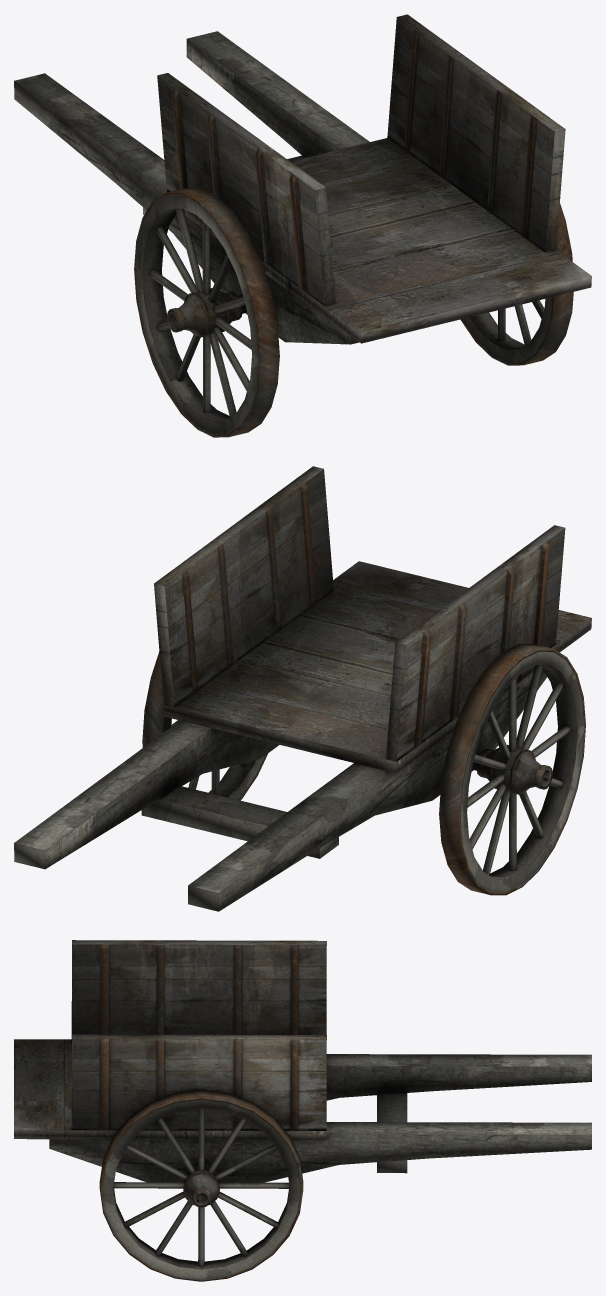
The model's file is Cart_v2.fbx.
3 views of the same model, one above another, from view 1: azimuth 30°, elevation 25°; view 2: azimuth 150°, elevation 25°; view 3: azimuth 270°, elevation 25° (orthographic). The views are drawn at different scales.
Visible parts, largest first — view 1: Cart; view 2: Cart; view 3: Cart.
Boxes of the visible parts, box(x1,y1,x2,y2) form: Cart: box(14, 14, 591, 437); Cart: box(14, 466, 591, 911); Cart: box(14, 940, 591, 1281).
Bounding box in the file's own units: 246 × 187 × 421.
1 material, 1 textured.
